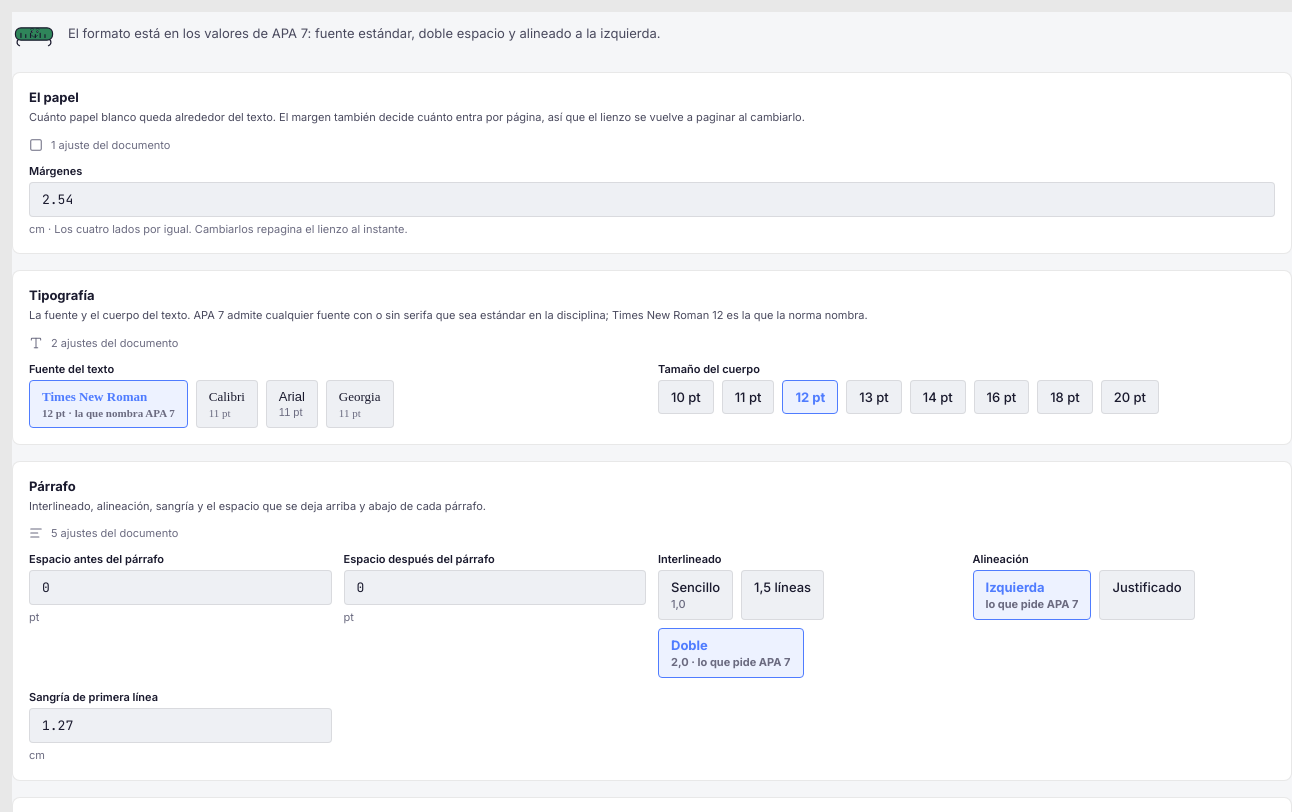
Test: Formato — restaurar valores por defecto › PIDE CONFIRMACIÓN: hasta confirmarlo, no cambia nada
Click the button "Georgia 11 pt".
click(360, 404)  # box [326,380,394,428]
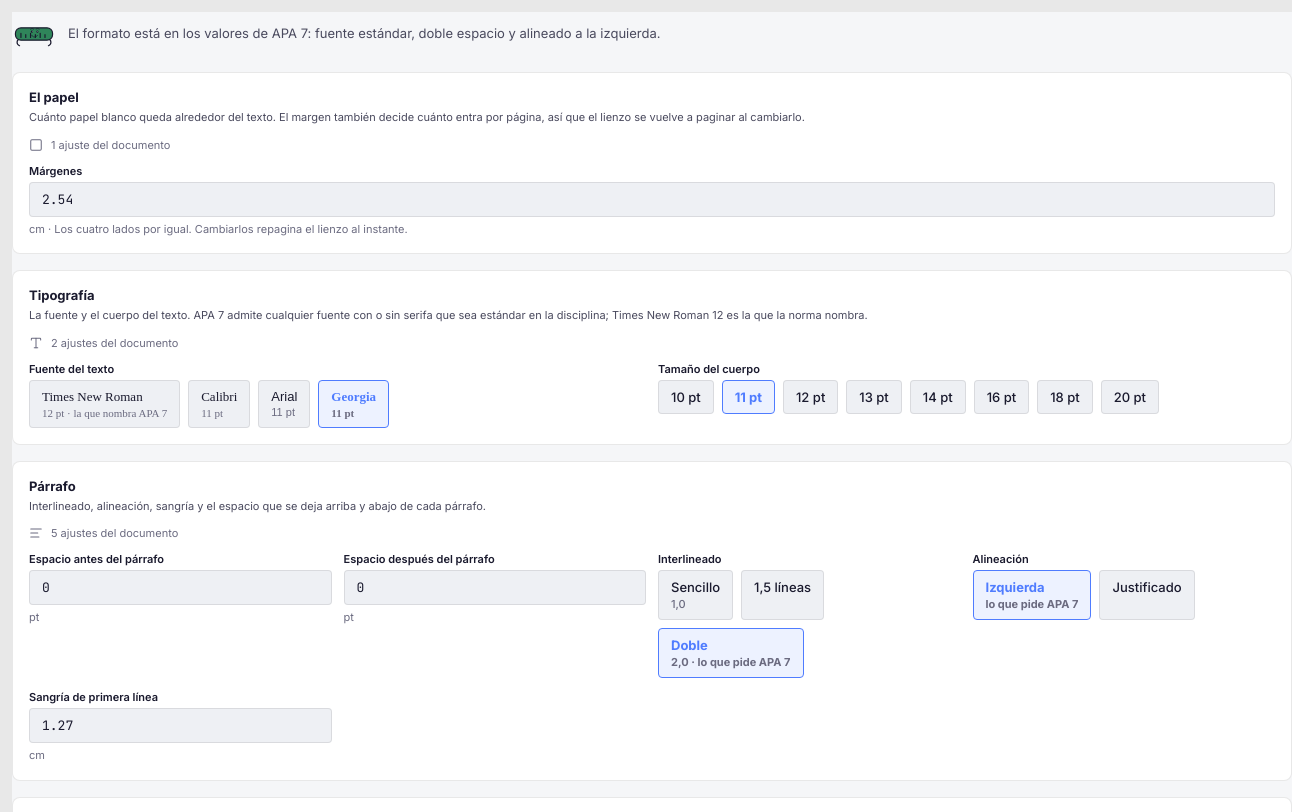
Replace the text in the number field labelled "Márgenes" with "4" at (652,199), box [29,182,1275,216]
(page scrolled)
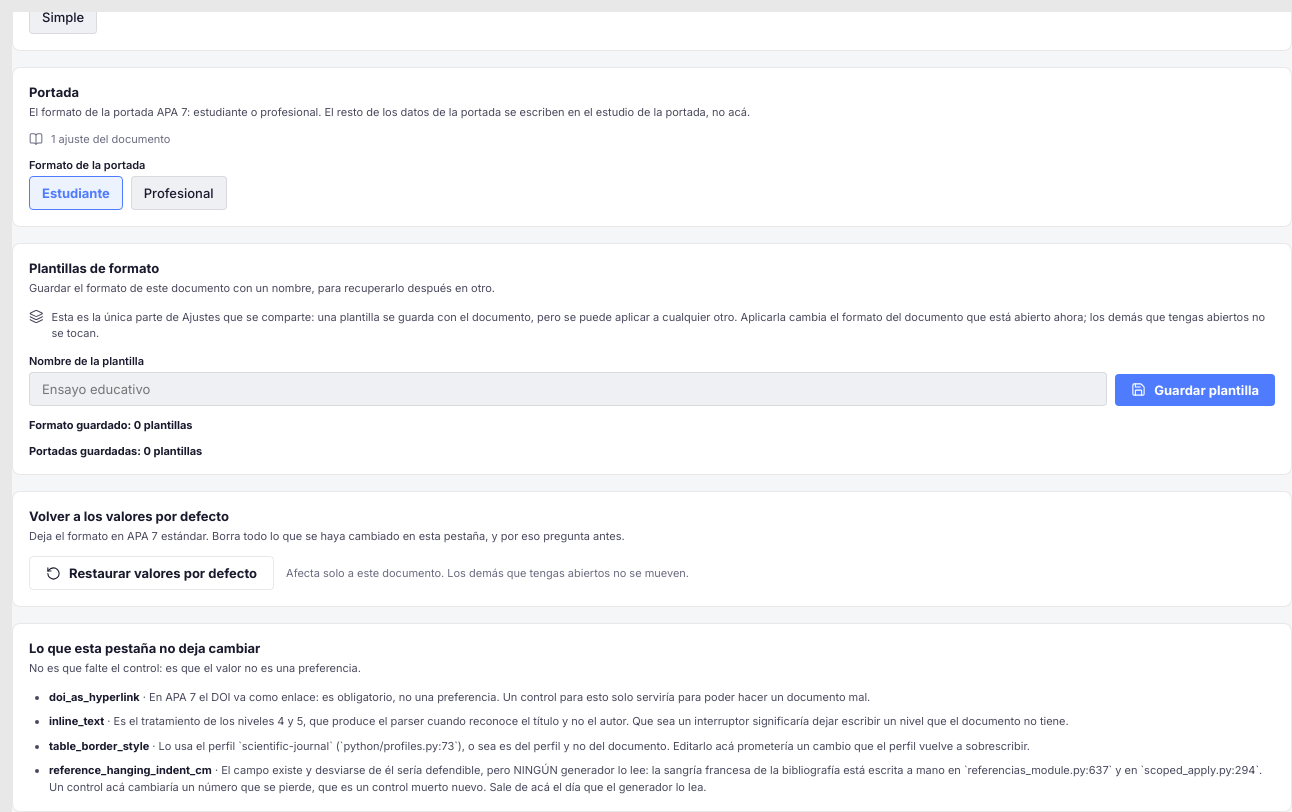
Click the button with test id "boton-restaurar-defecto".
click(152, 573)  # box [29,556,274,590]
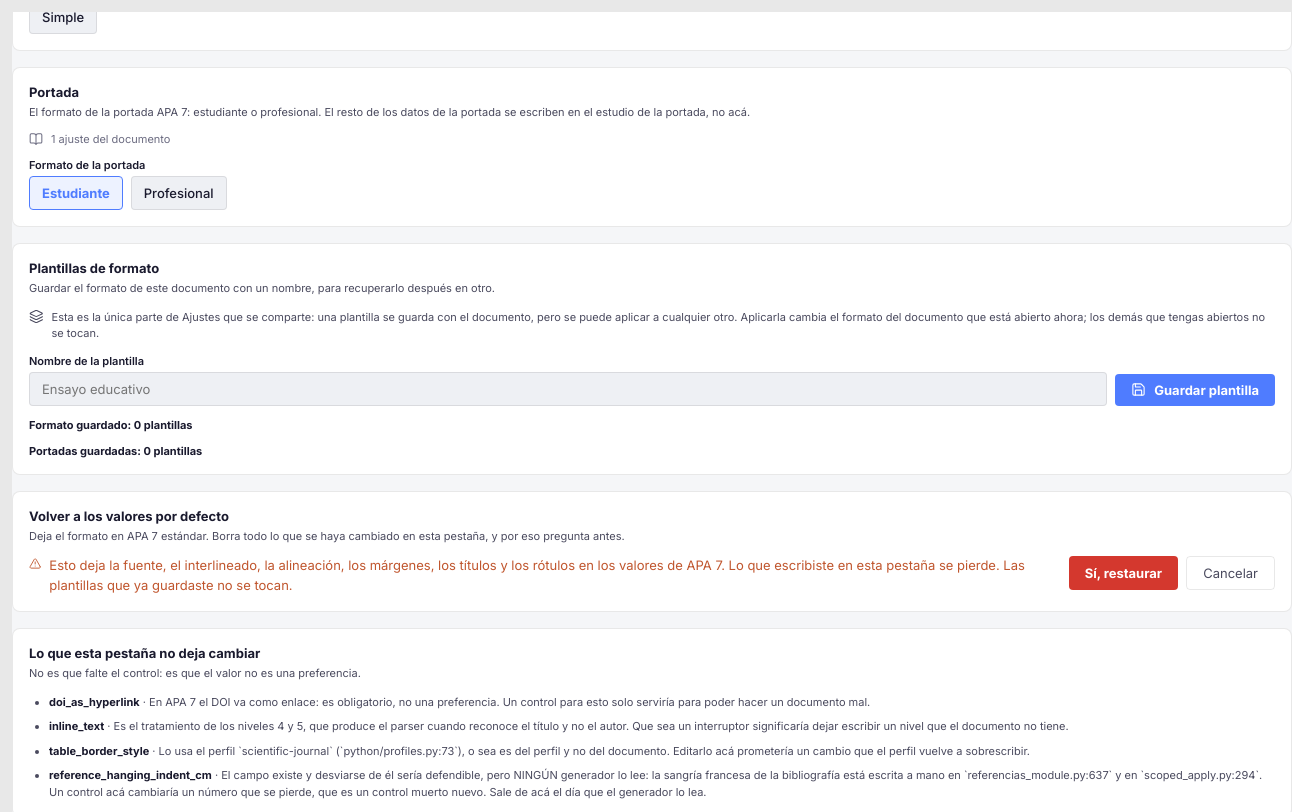
Expected: the element with test id "aviso-restaurar" is shown, [29,556,1057,595]
Click the button with test id "boton-cancelar-restaurar".
click(1231, 573)  # box [1186,556,1275,590]
(page scrolled)
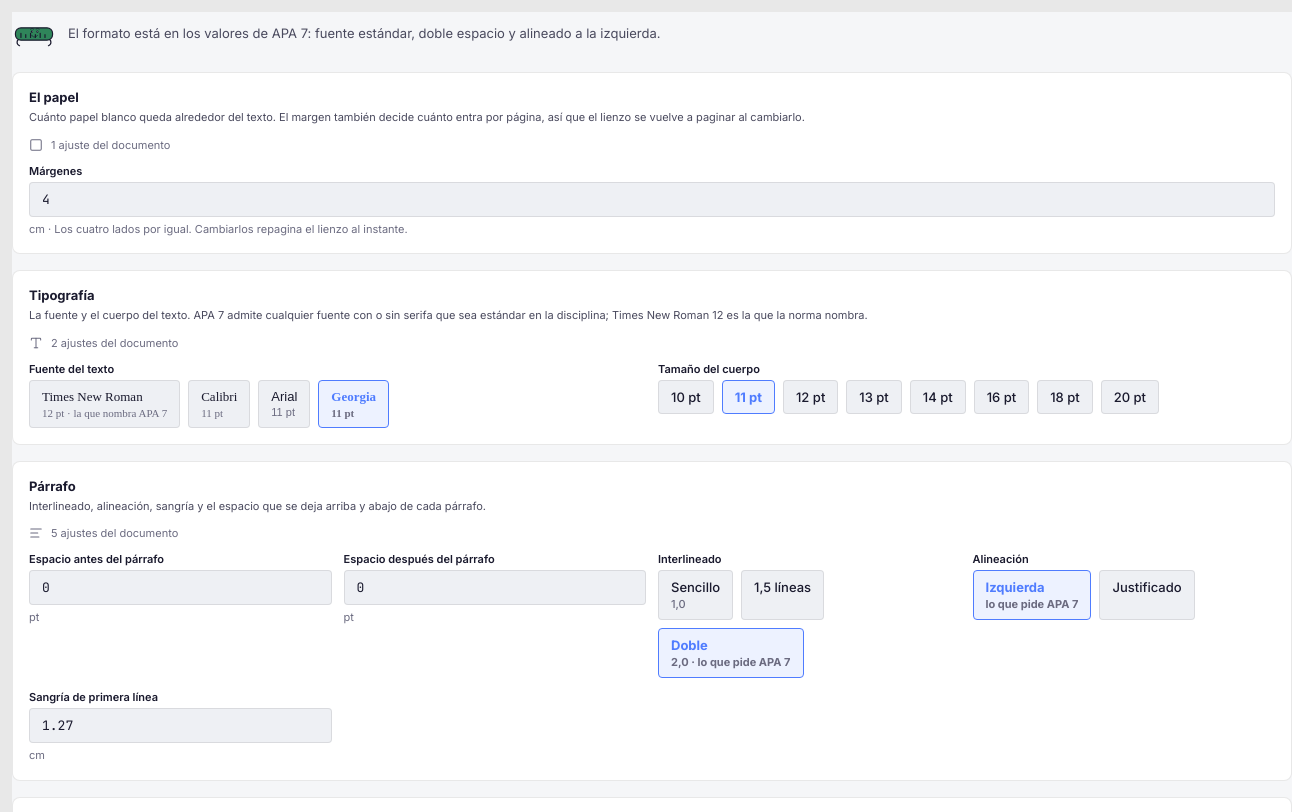
Expected: the element with test id "aviso-restaurar" is gone
Expected: the text "Georgia" is shown, [331,388,376,404]
